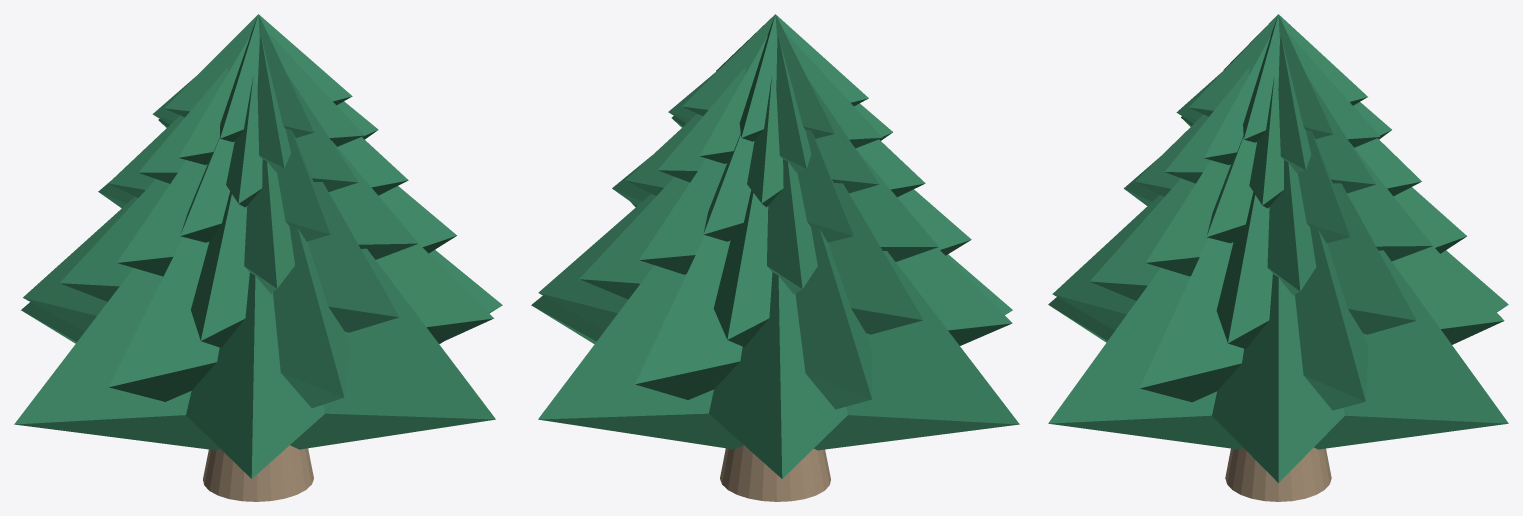
File: tree2.glb
3 views of the same model, side by side, from view 1: azimuth 30°, elevation 25°; view 2: azimuth 150°, elevation 25°; view 3: azimuth 270°, elevation 25° (orthographic).
Visible parts, largest first — view 1: Mesh_Mesh_head_geo.001_lambert2SG.001; view 2: Mesh_Mesh_head_geo.001_lambert2SG.001; view 3: Mesh_Mesh_head_geo.001_lambert2SG.001.
Part boxes in pixels (<box>): Mesh_Mesh_head_geo.001_lambert2SG.001: <box>14,14,502,501</box>; Mesh_Mesh_head_geo.001_lambert2SG.001: <box>531,14,1019,501</box>; Mesh_Mesh_head_geo.001_lambert2SG.001: <box>1048,14,1508,501</box>.
Bounding box in the file's own units: 0.033 × 0.03 × 0.027.
